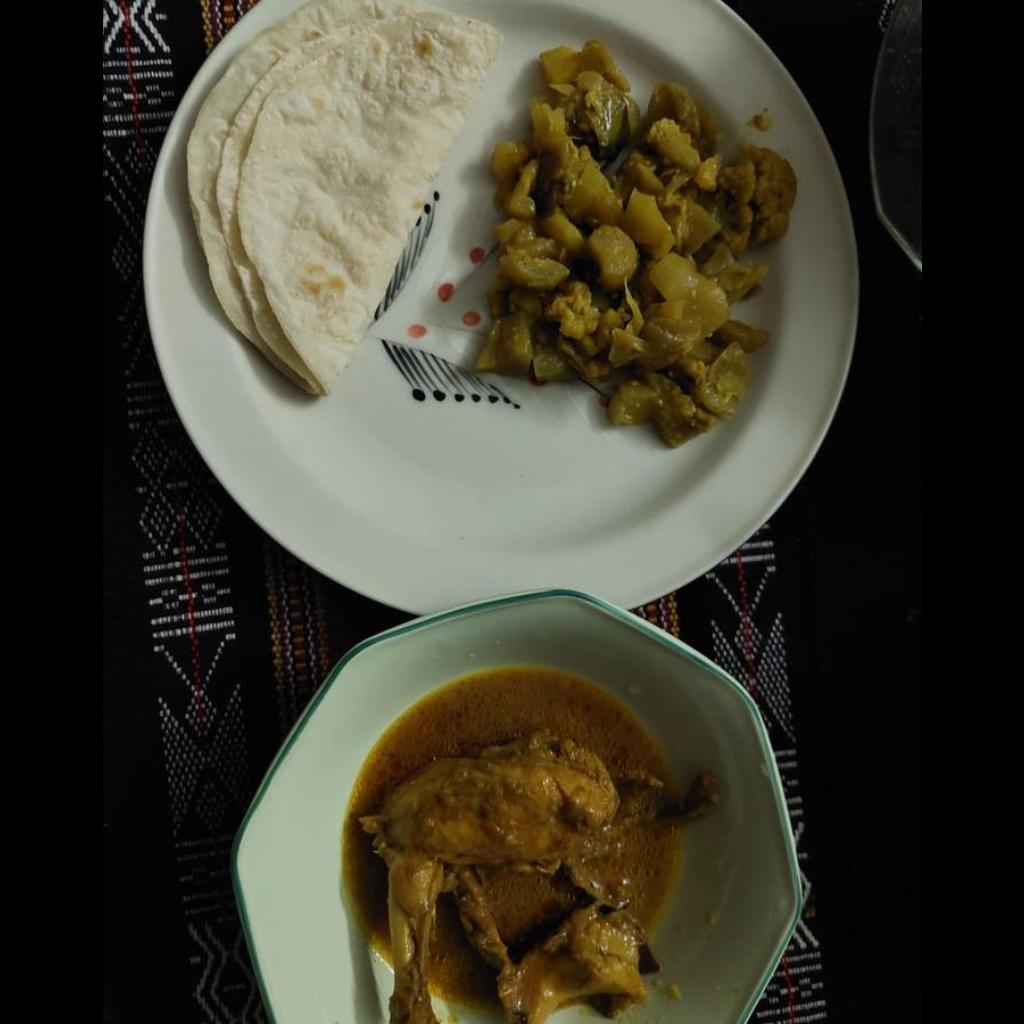chicken: (360, 738, 654, 1022)
ruti: (186, 0, 503, 391)
vaji: (470, 40, 795, 448)
